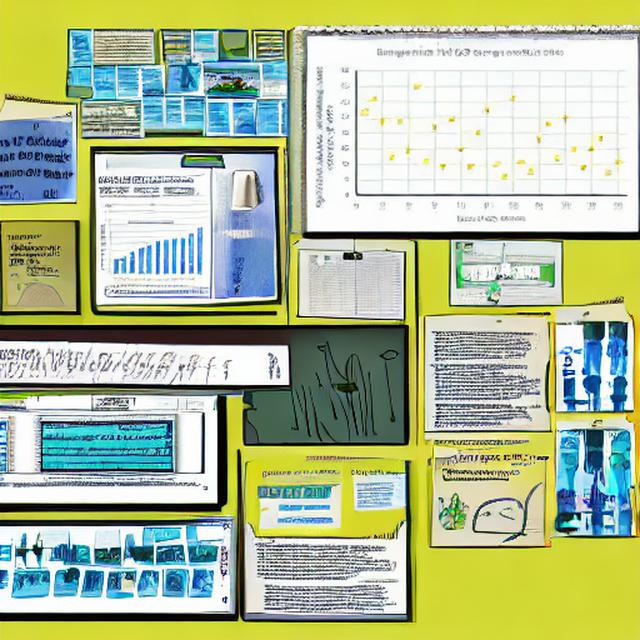Graph: (307, 44, 637, 228), (99, 215, 207, 282)
